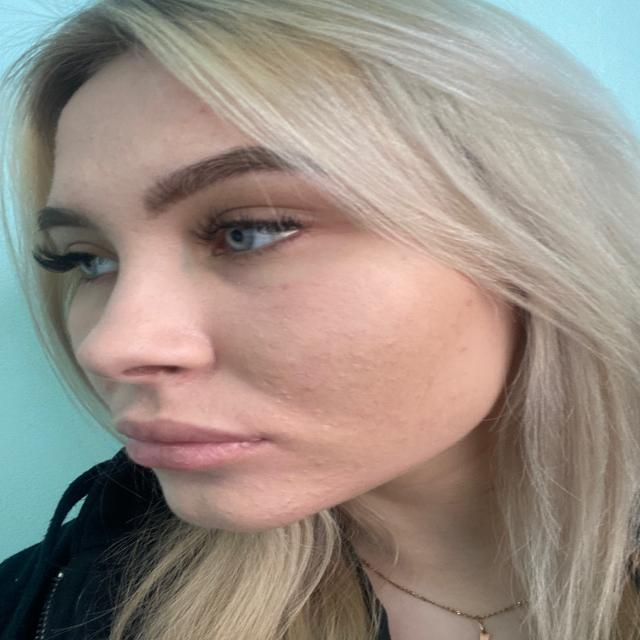Acne: (434, 294, 492, 363), (259, 370, 328, 414), (297, 462, 337, 496)
